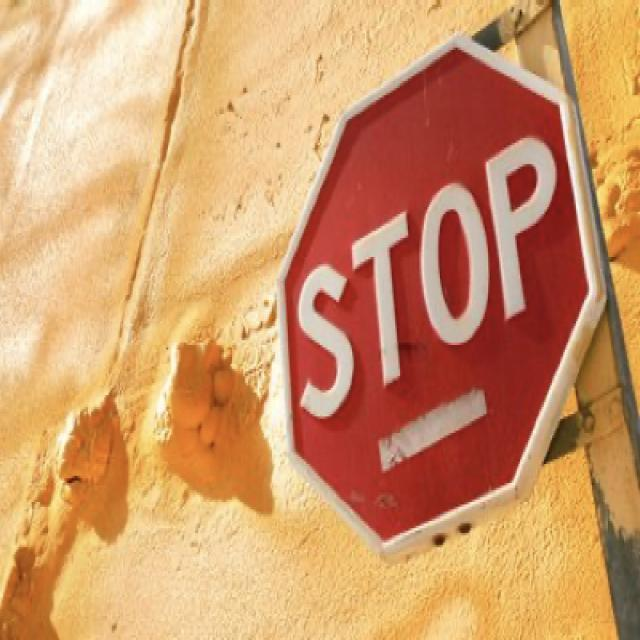stop: (274, 30, 608, 562)
